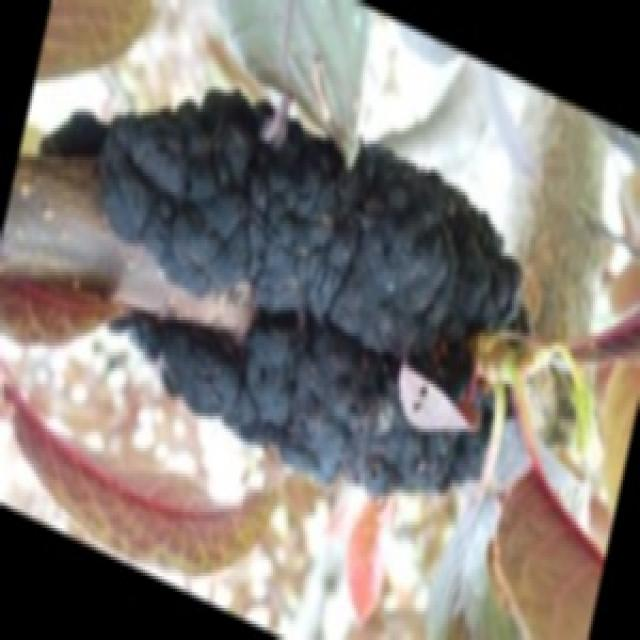Black_knot: (92, 83, 529, 493)
